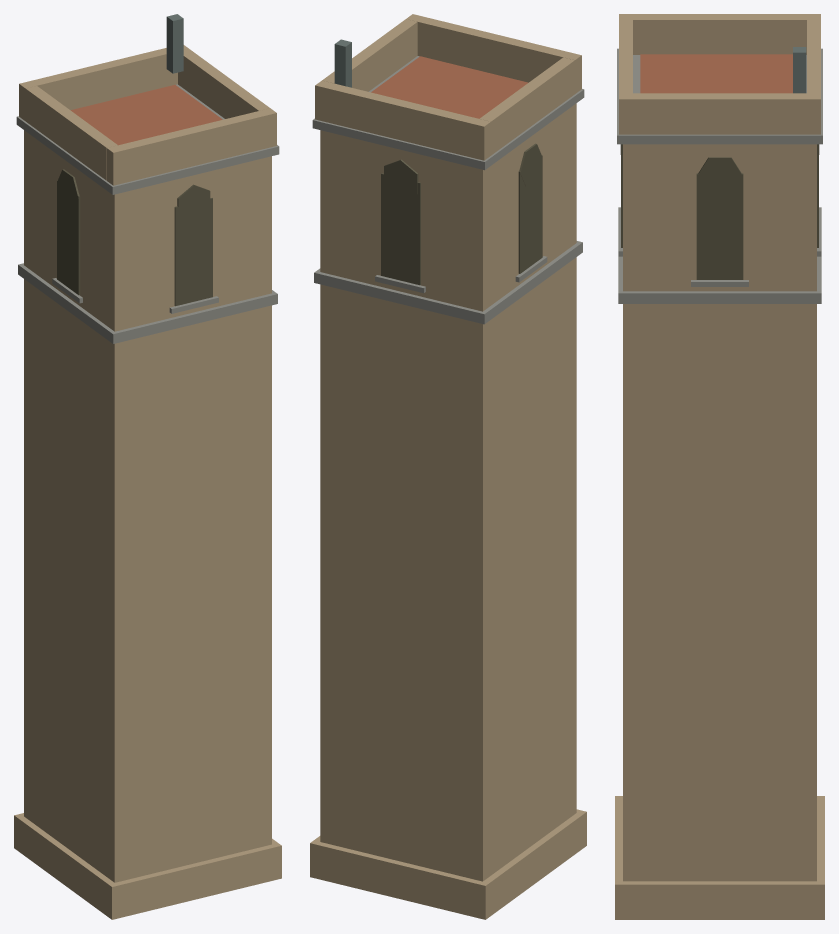
Rendered from SM_Campanario_v1_Silleria_LOD1.fbx.
3 views of the same model, side by side, from view 1: azimuth 30°, elevation 25°; view 2: azimuth 150°, elevation 25°; view 3: azimuth 270°, elevation 25° (orthographic). The views are drawn at different scales.
Parts seen in each view (by area): view 1: SM_pueblo_valenciano_v21_LOD1; view 2: SM_pueblo_valenciano_v21_LOD1; view 3: SM_pueblo_valenciano_v21_LOD1.
Part boxes in pixels (left/top/right/bottom): SM_pueblo_valenciano_v21_LOD1: left=14, top=14, right=281, bottom=919; SM_pueblo_valenciano_v21_LOD1: left=310, top=14, right=586, bottom=919; SM_pueblo_valenciano_v21_LOD1: left=615, top=14, right=824, bottom=919.
Size of the model in its own units: 5.4 by 24.4 by 5.4.
